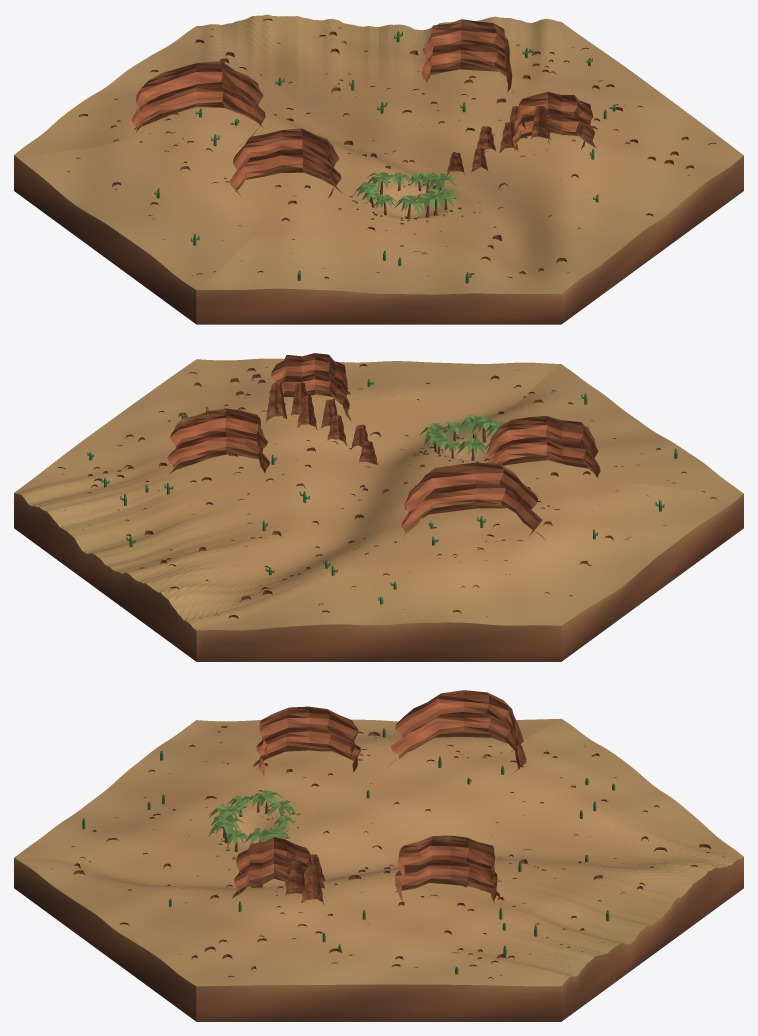
3 renders of one model, top to bottom at view 1: azimuth 30°, elevation 25°; view 2: azimuth 150°, elevation 25°; view 3: azimuth 270°, elevation 25°, orthographic.
Parts seen in each view (by area): view 1: terrain, hex_side_cut, sandstone_cliffs, loose_rocks, palm_fronds, cacti; view 2: terrain, hex_side_cut, sandstone_cliffs, loose_rocks, palm_fronds, cacti; view 3: terrain, hex_side_cut, sandstone_cliffs, palm_fronds, loose_rocks, cacti.
Boxes of the visible parts, x1,y1,x2,y2 form: terrain: (14, 14, 743, 294); hex_side_cut: (14, 155, 743, 324); sandstone_cliffs: (131, 19, 596, 198); loose_rocks: (67, 18, 716, 279); palm_fronds: (354, 172, 460, 214); cacti: (154, 31, 615, 283); terrain: (14, 358, 743, 630); hex_side_cut: (14, 493, 743, 661); sandstone_cliffs: (167, 353, 600, 540); loose_rocks: (57, 364, 716, 619); palm_fronds: (419, 414, 505, 455); cacti: (87, 379, 677, 604); terrain: (14, 718, 743, 986); hex_side_cut: (14, 857, 743, 1021); sandstone_cliffs: (232, 690, 526, 905); palm_fronds: (208, 790, 298, 846); loose_rocks: (71, 726, 724, 979); cacti: (82, 728, 615, 974).
Bounding box in the file's own units: 4330 × 803 × 5000.
